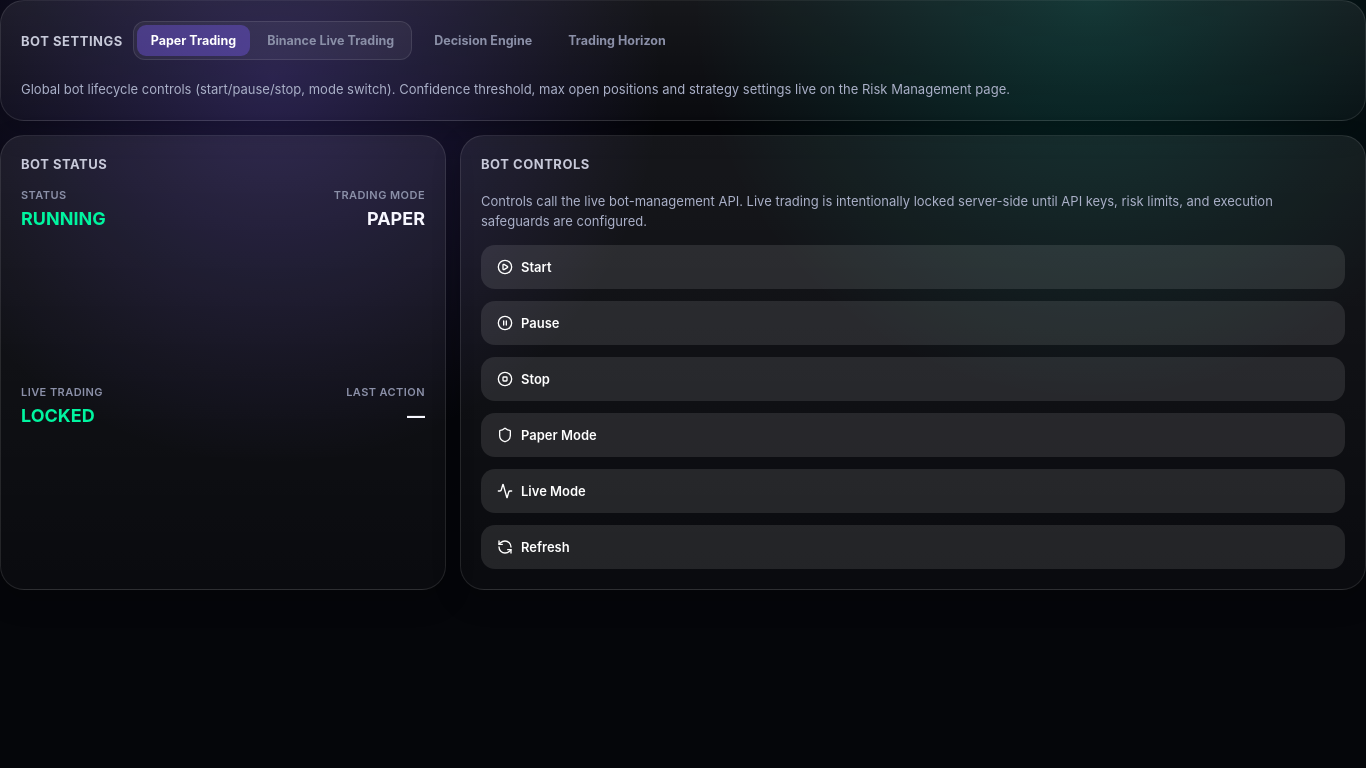
Test case: BotSettingsPage - Binance Live Trading tab › reflects the same account-connected status the Binance Real page would show
Click the tab "Binance Live Trading".
click(331, 40)  # box [253,25,408,56]
(page scrolled)
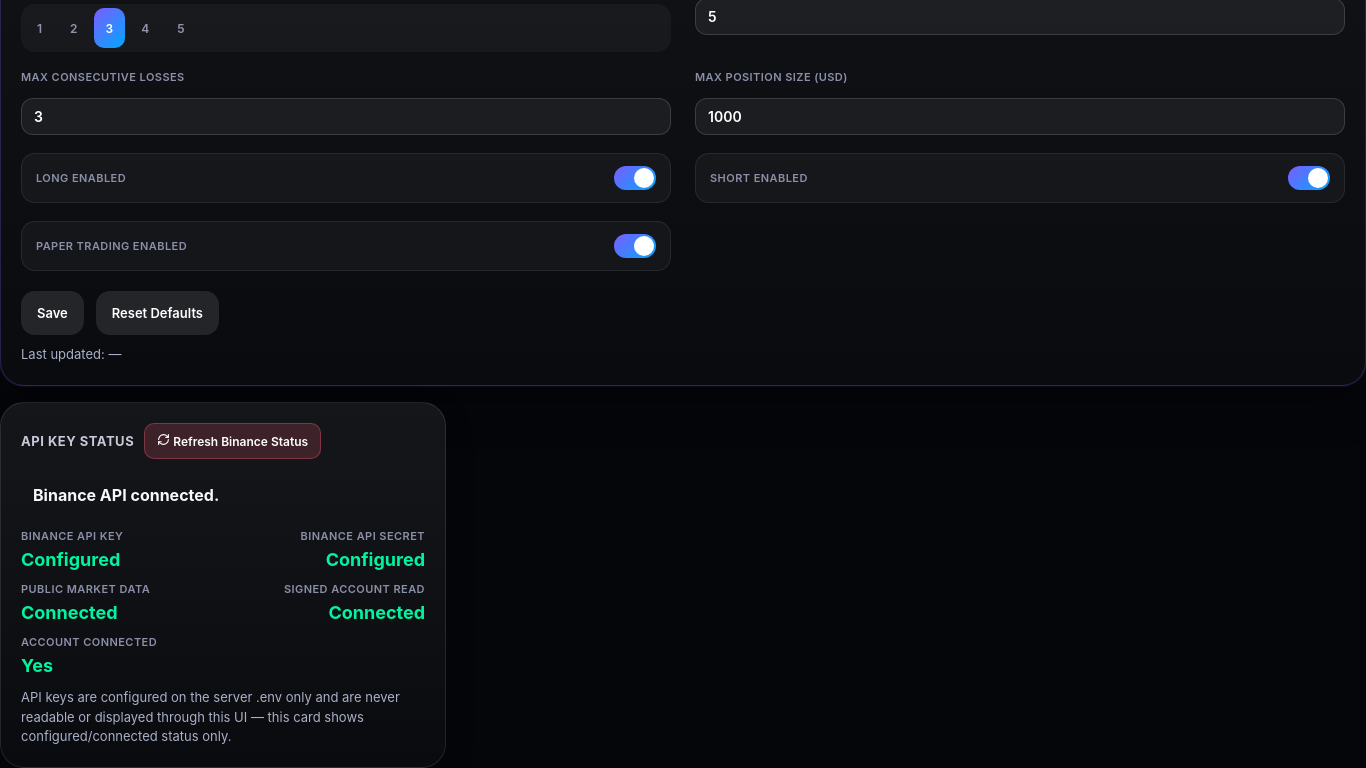
expect the text "API Key Status" is shown: met, box [21,433,134,449]
